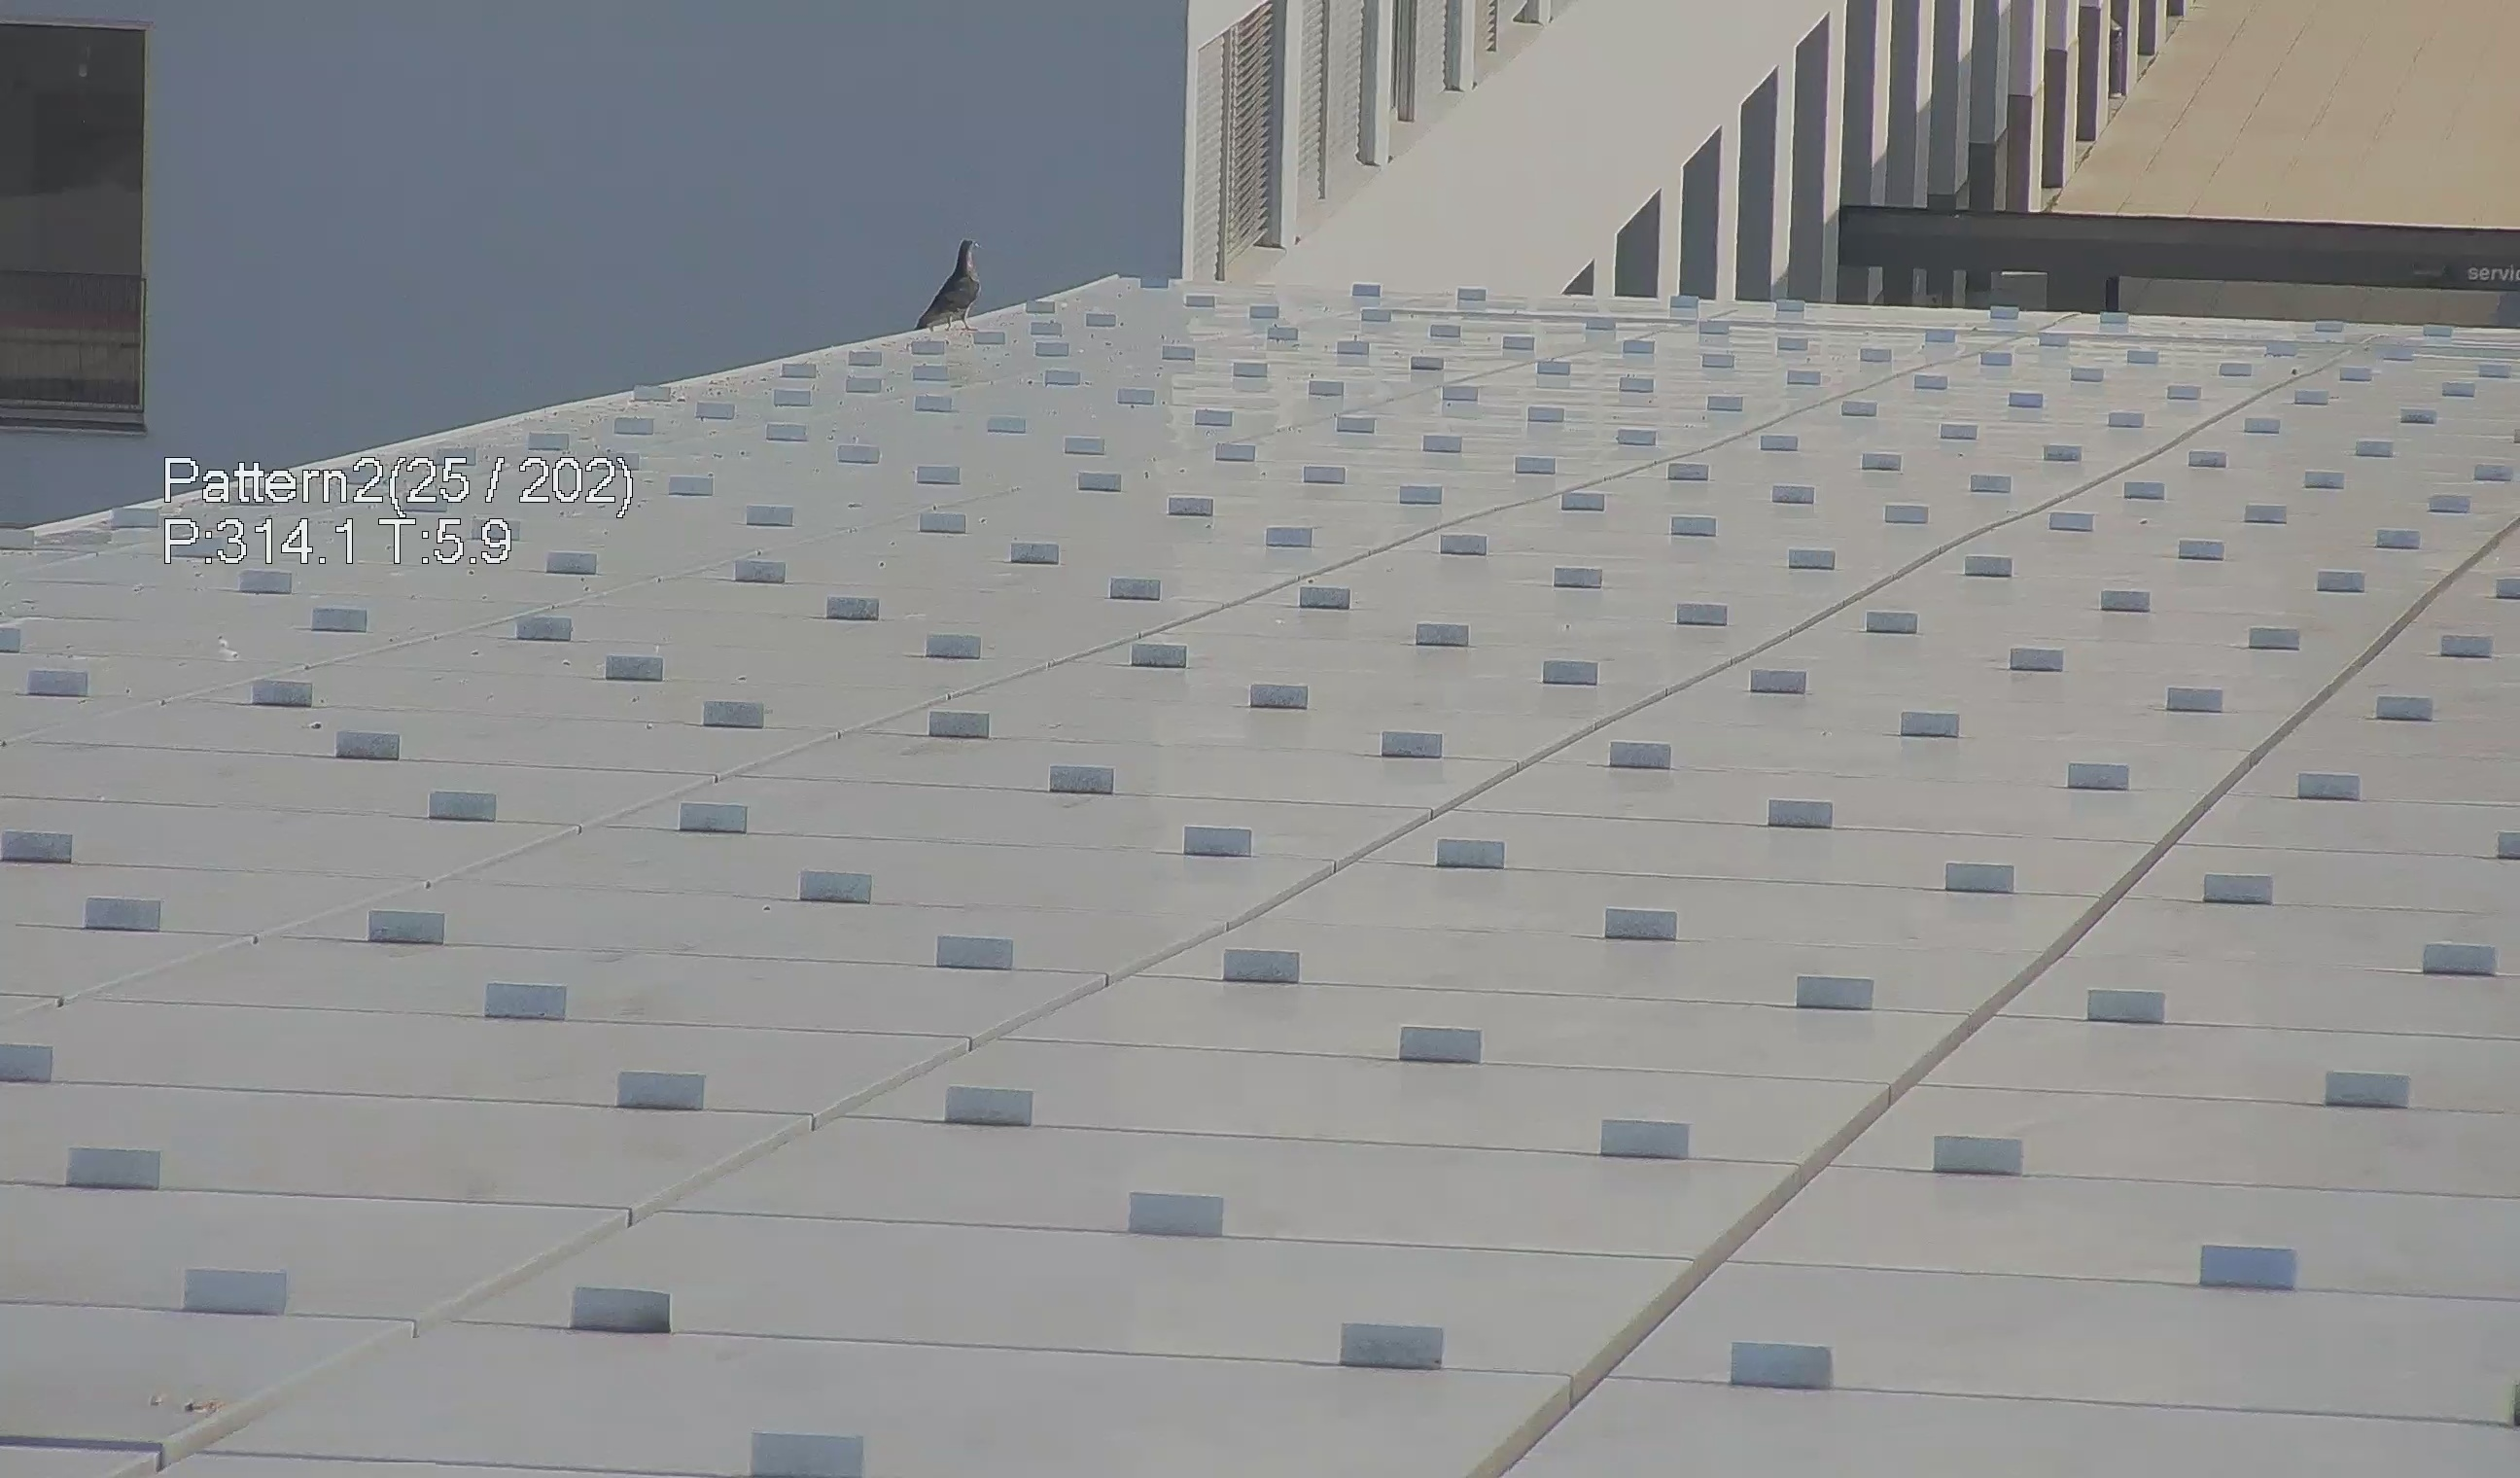Pigeon: (893, 225, 988, 336)
